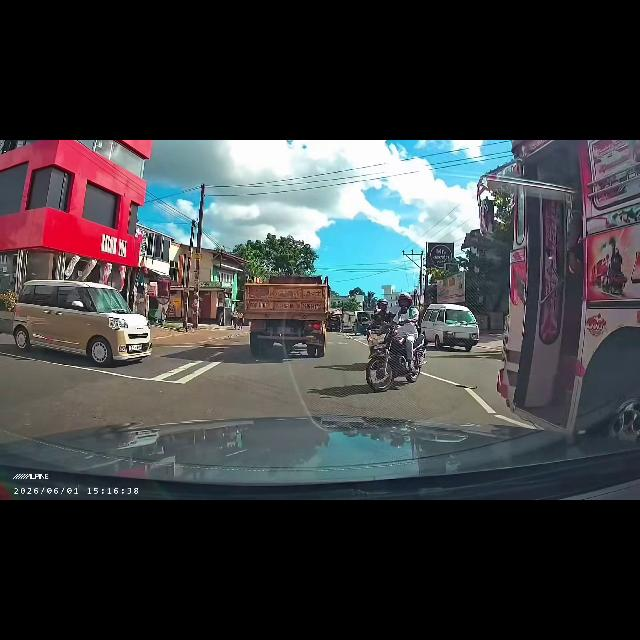bus: (501, 154, 622, 410)
car: (26, 282, 124, 362), (434, 303, 476, 352)
helmet: (396, 291, 414, 309)
motorcycle: (367, 332, 421, 382)
person: (394, 302, 420, 364)
solid_line: (424, 372, 498, 418)
truck: (246, 284, 328, 350)
